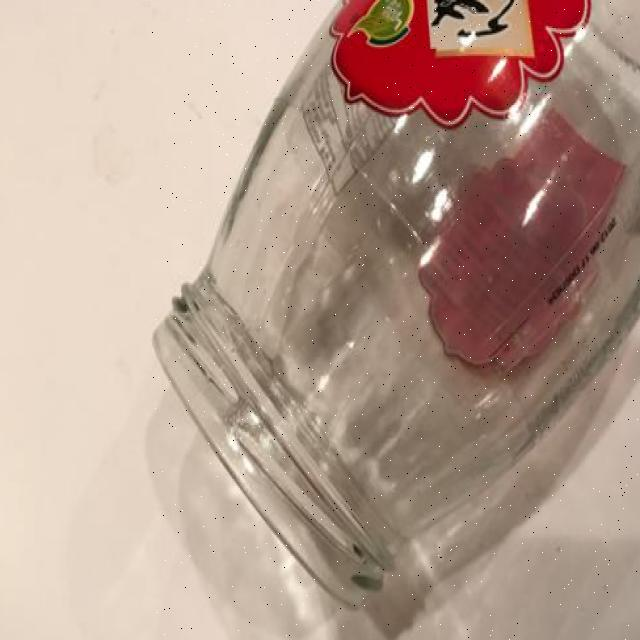glass: (152, 0, 640, 640)
